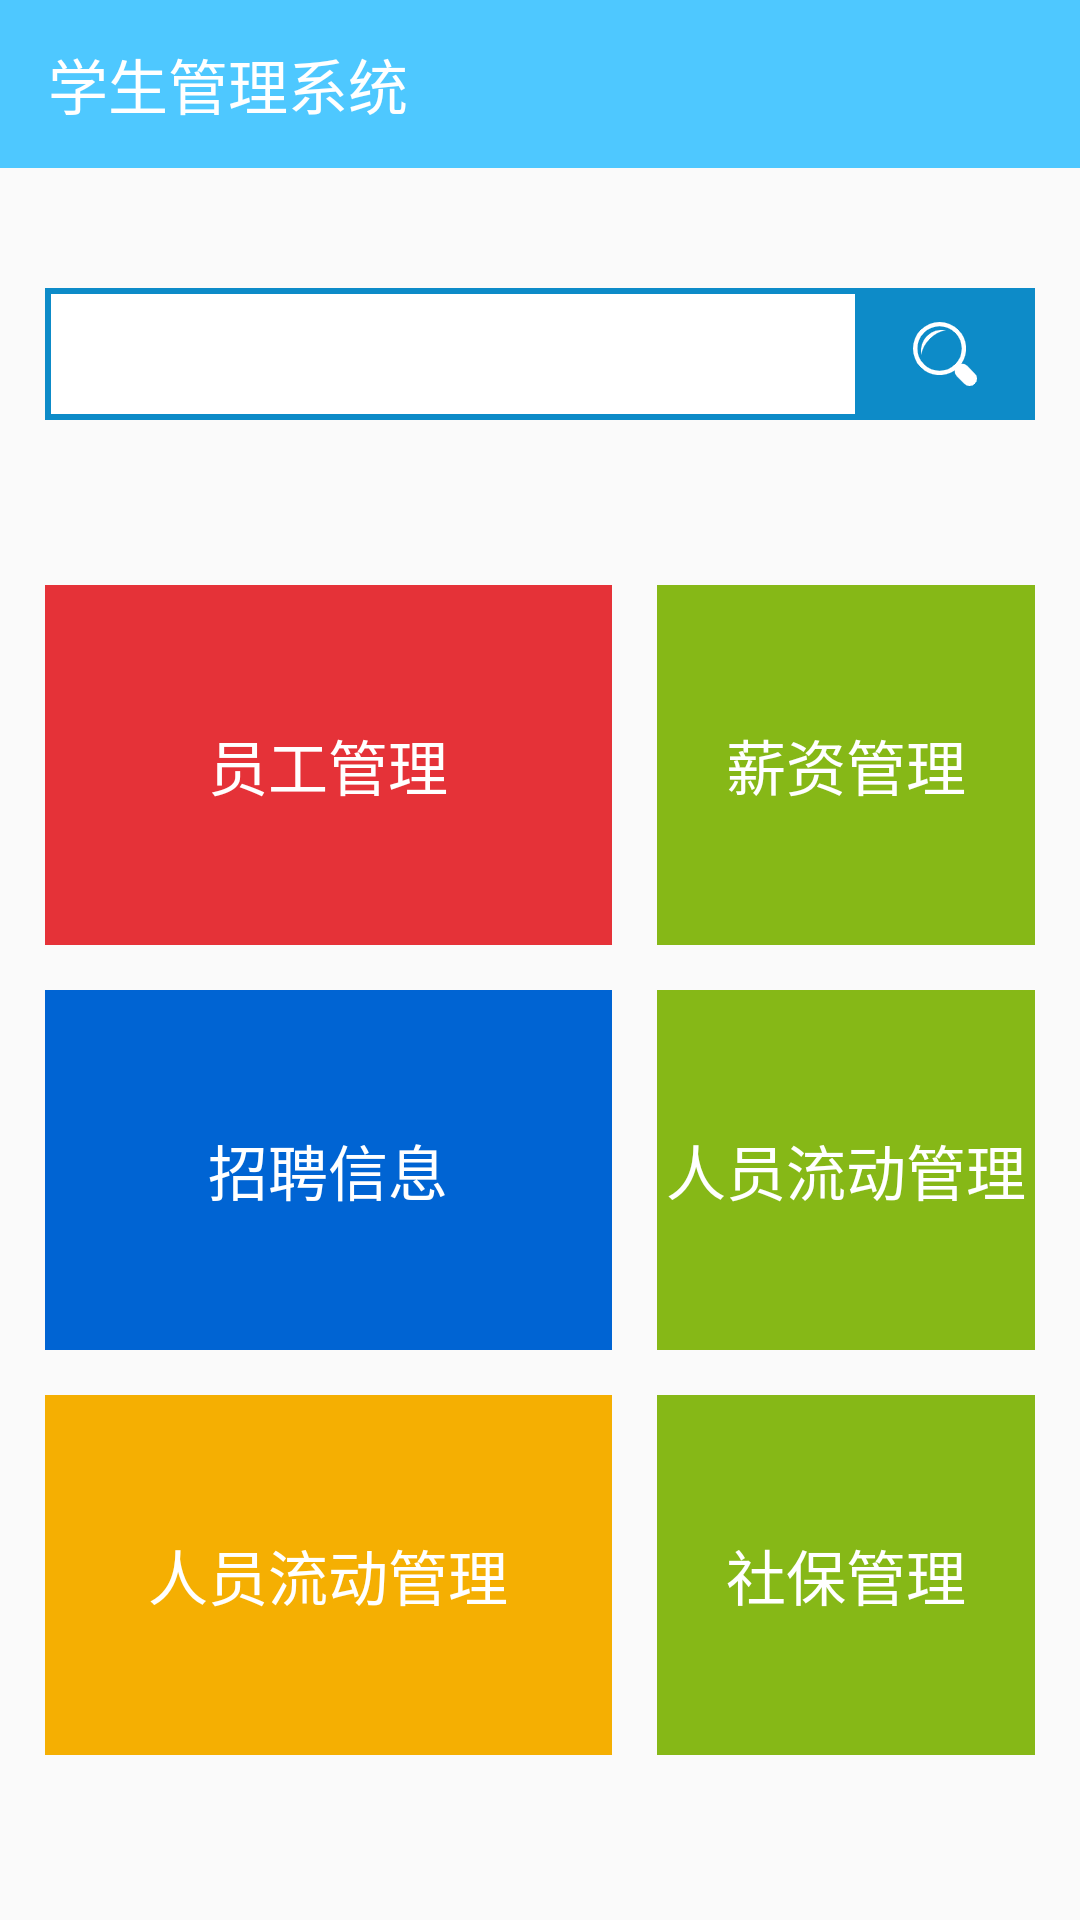

Named icons in this screenshot (1080px x 1920px) and their bounding boxes, (x1, y1, x2, y2):
search: (913, 322, 977, 386)
